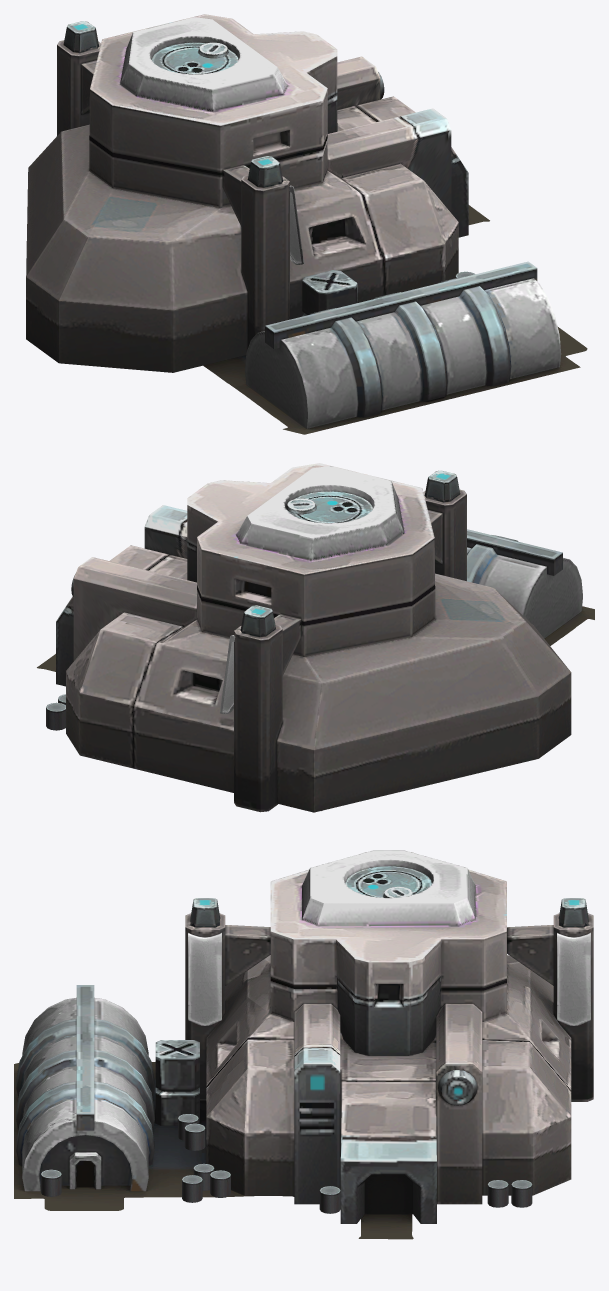
The model's file is MilitaryBase_real.fbx.
3 renders of one model, top to bottom at view 1: azimuth 30°, elevation 25°; view 2: azimuth 150°, elevation 25°; view 3: azimuth 270°, elevation 25°, orthographic.
Visible parts, largest first — view 1: MilitaryBase1; view 2: MilitaryBase1; view 3: MilitaryBase1.
Boxes of the visible parts, box(x1,y1,x2,y2) form: MilitaryBase1: box(26, 14, 587, 434); MilitaryBase1: box(37, 463, 594, 812); MilitaryBase1: box(14, 850, 593, 1239).
Size of the model in its own units: 2 by 1.73 by 0.7415.
